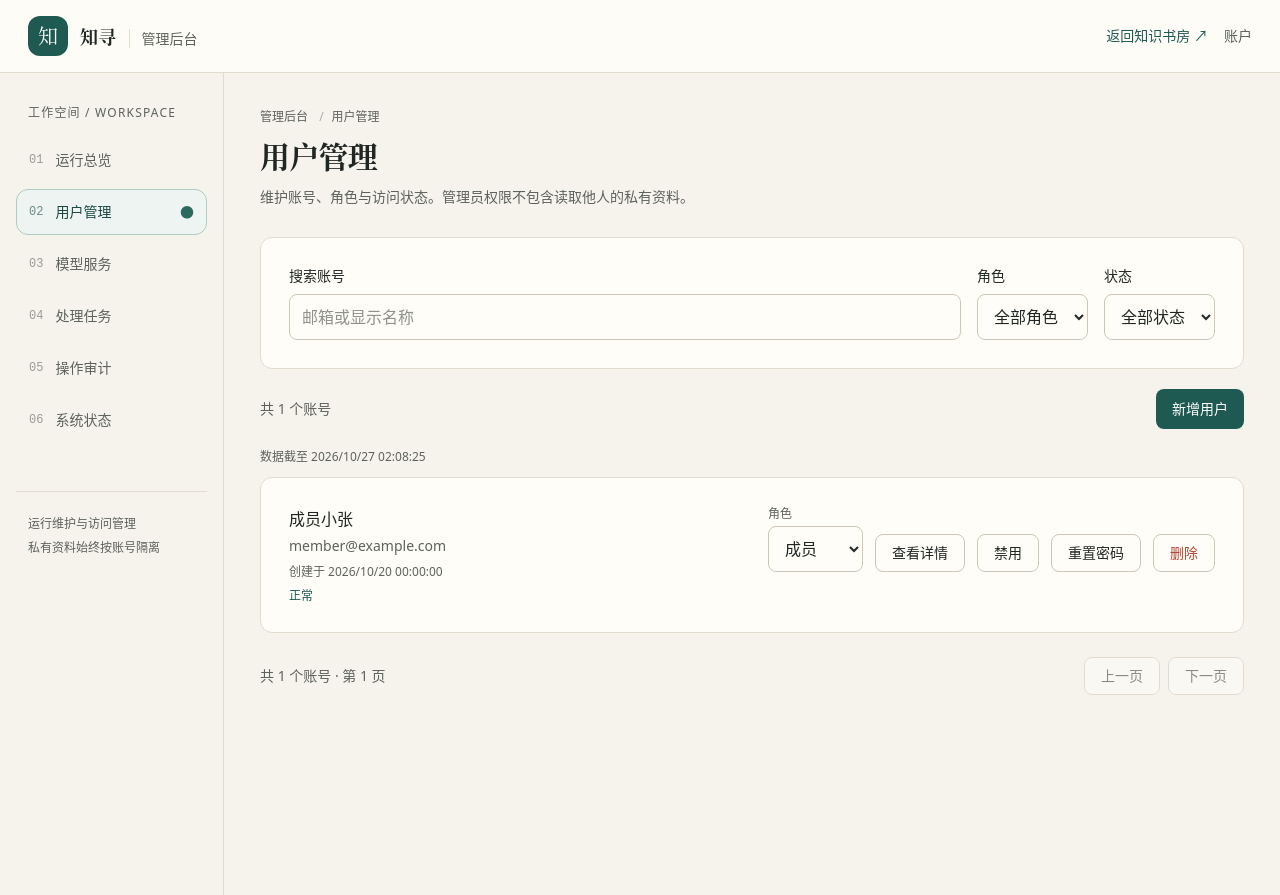
Test case: 额度修改确认与失败恢复
Click the button with test id "admin-user-detail-open" at [920, 553], box [875,534,965,572]
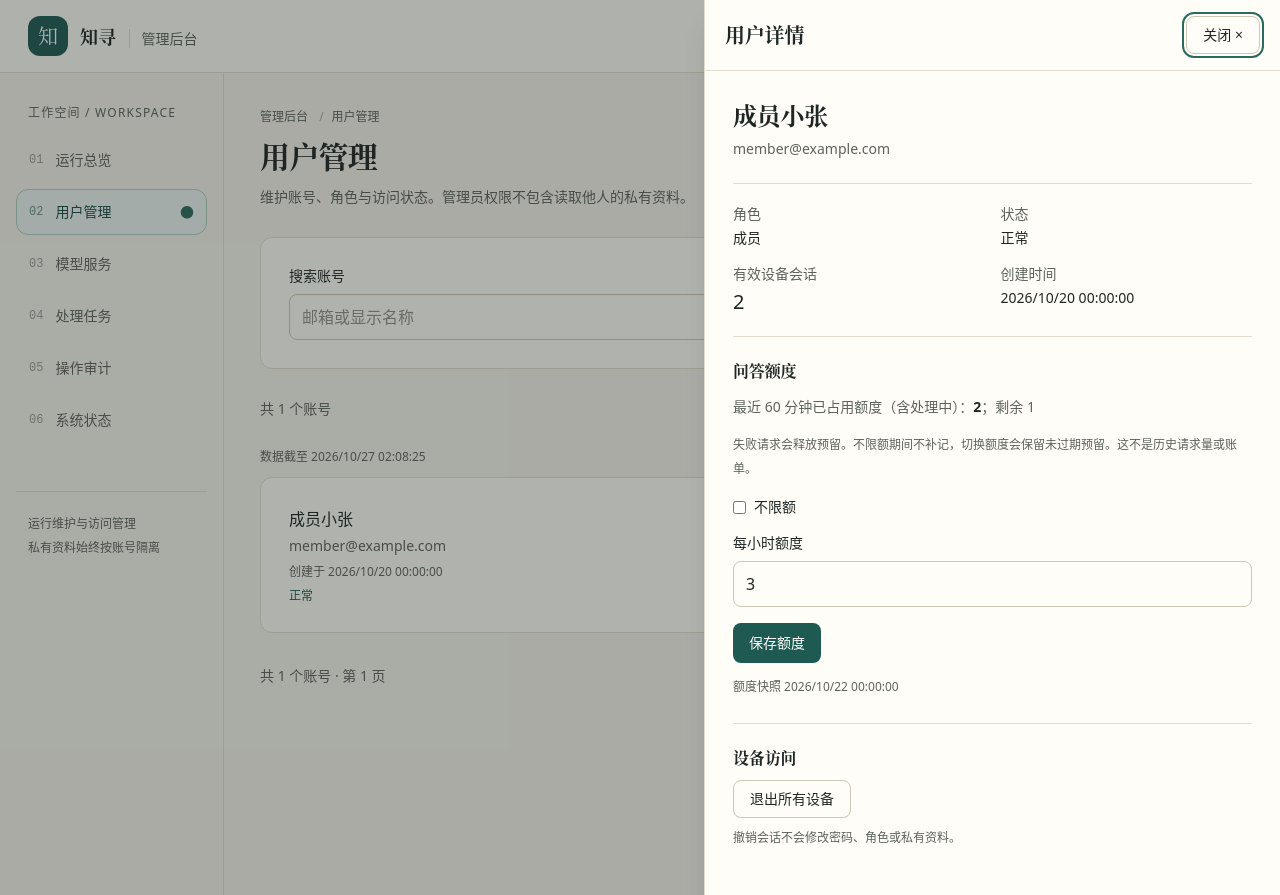
Replace the text in the number field with test id "admin-quota-input" with "0" at [992, 584], box [733,561,1252,607]
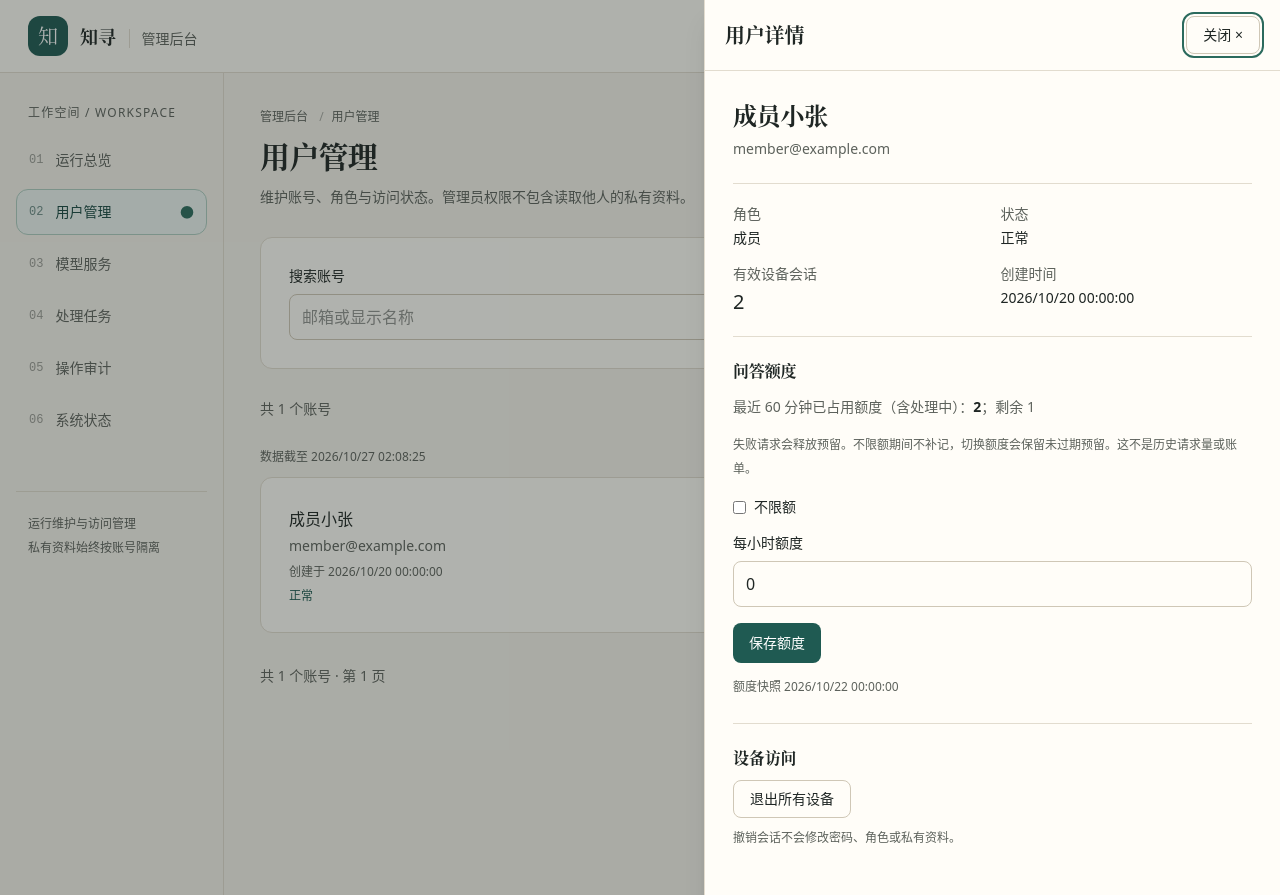
Click the button with test id "admin-quota-save" at [777, 643], box [733,623,821,663]
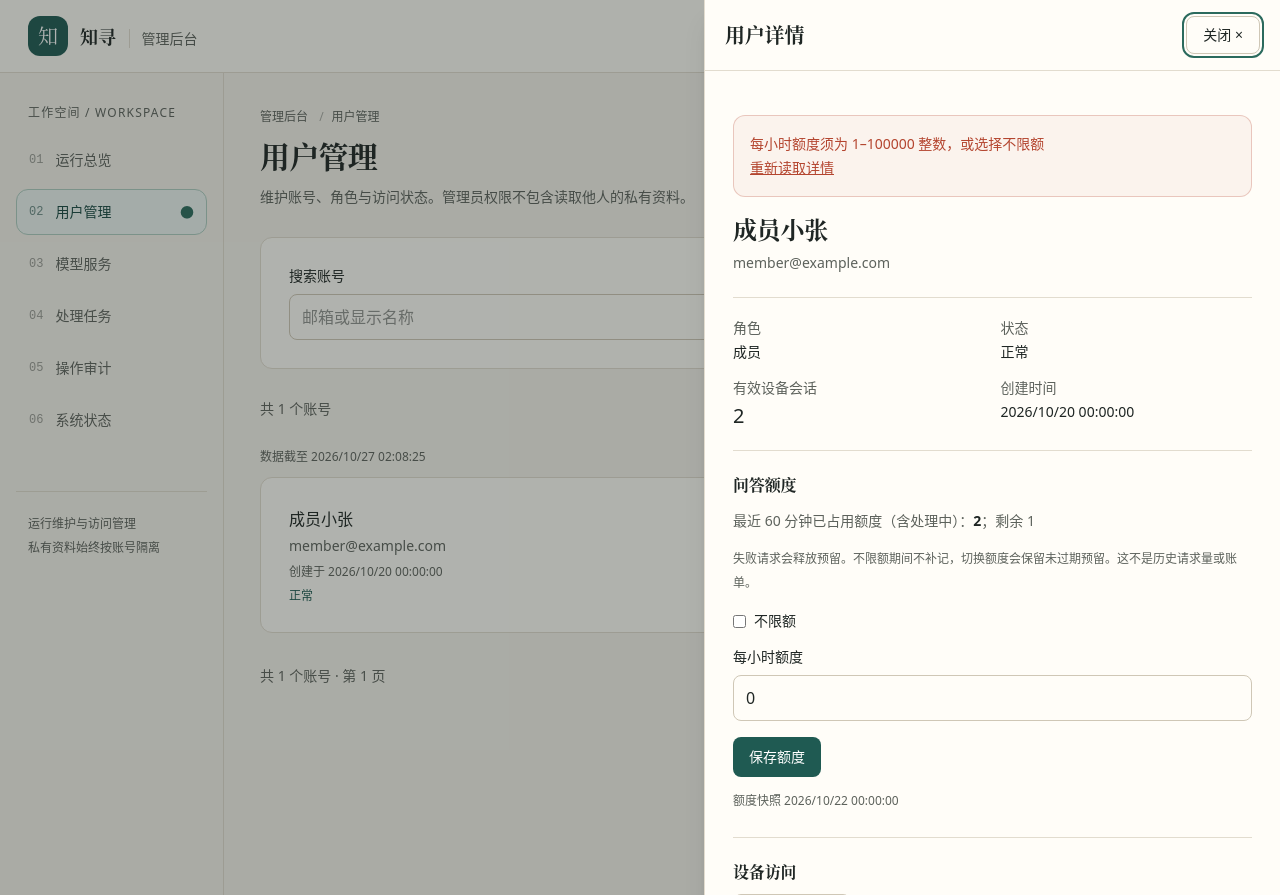
expect the text "100000" is shown: met, box [750,134,1044,153]
Replace the text in the number field with test id "admin-quota-input" with "1" at [992, 698], box [733,675,1252,721]
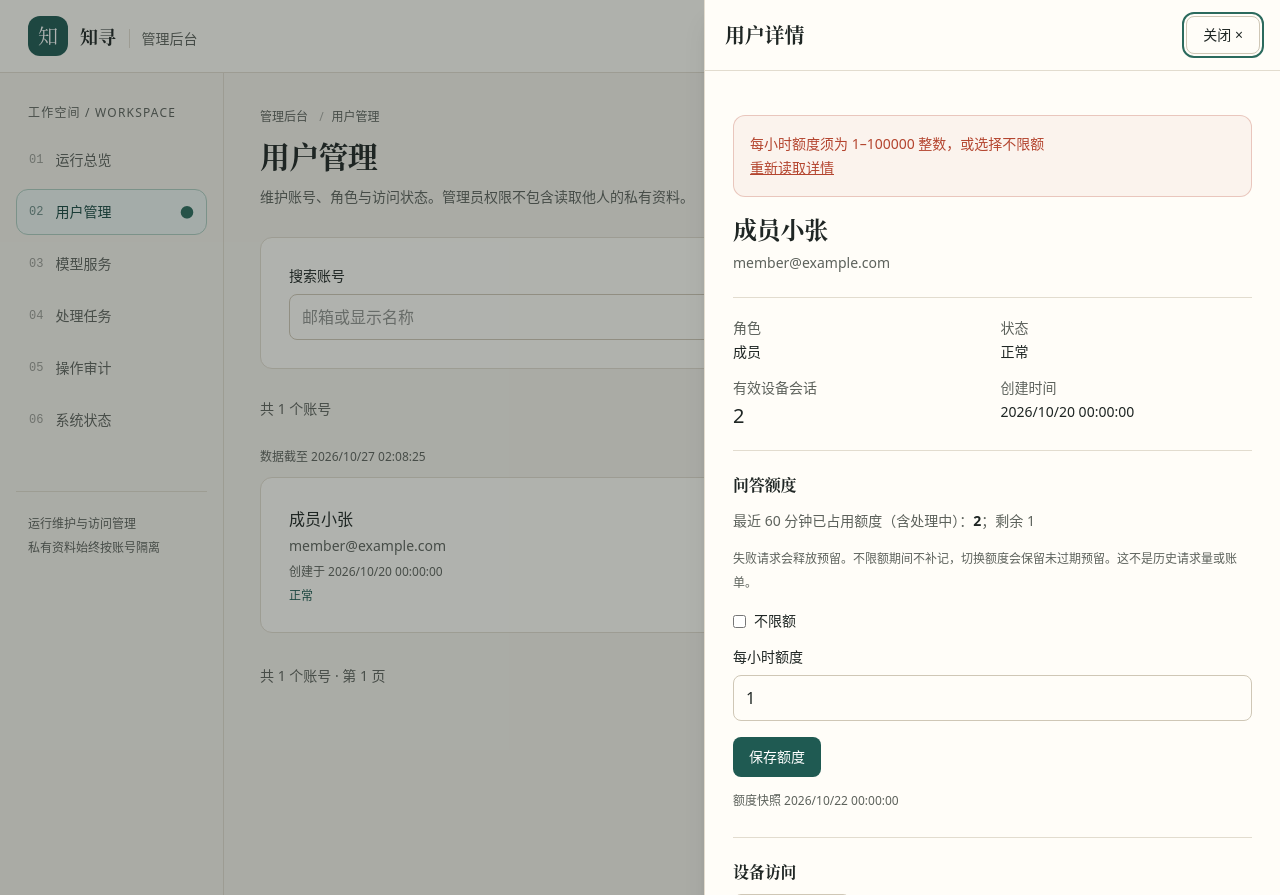
Click the button with test id "admin-quota-save" at [777, 757], box [733,737,821,777]
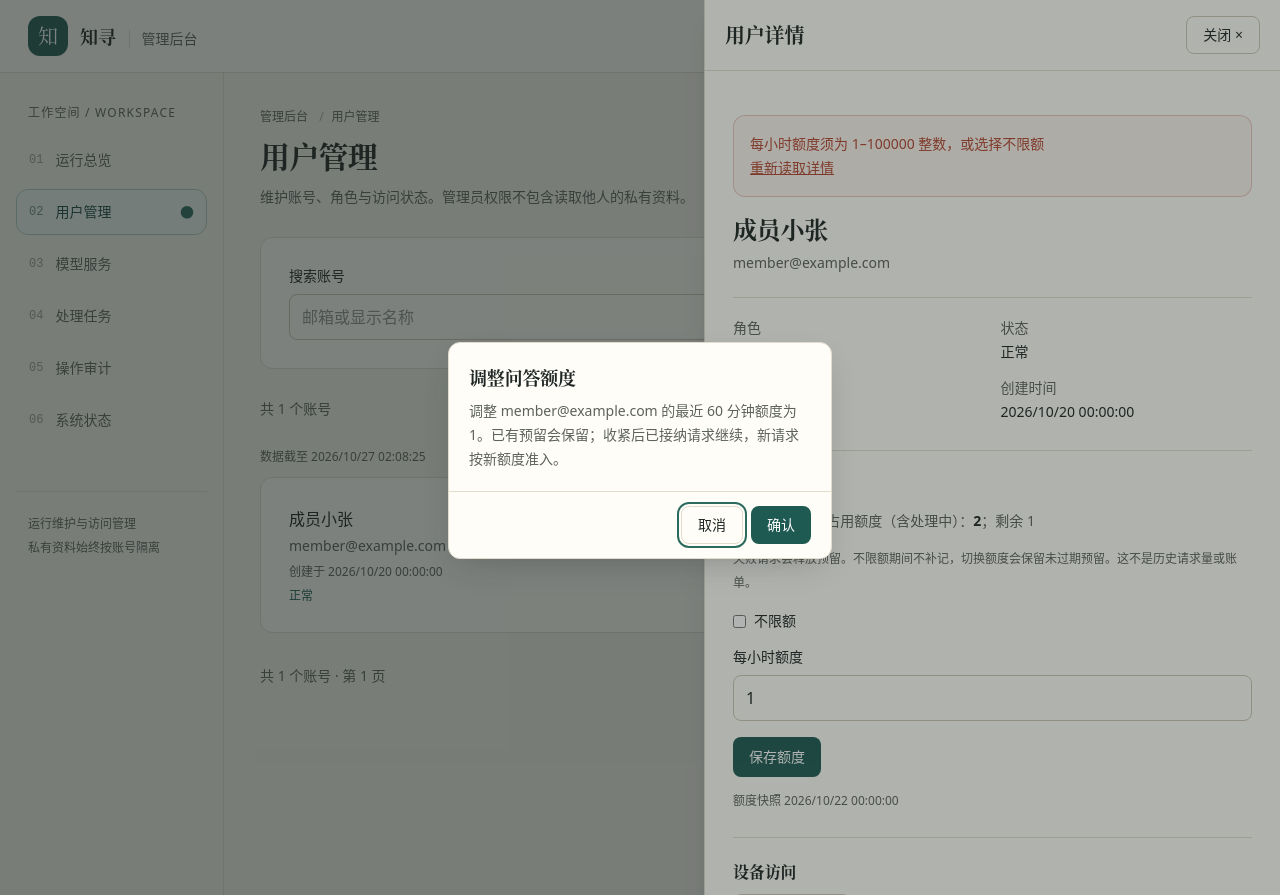
expect the text "已有预留" is shown: met, box [469,400,799,468]
Click the button with test id "confirm-dialog-confirm-btn" at [781, 524], box [751,506,811,544]
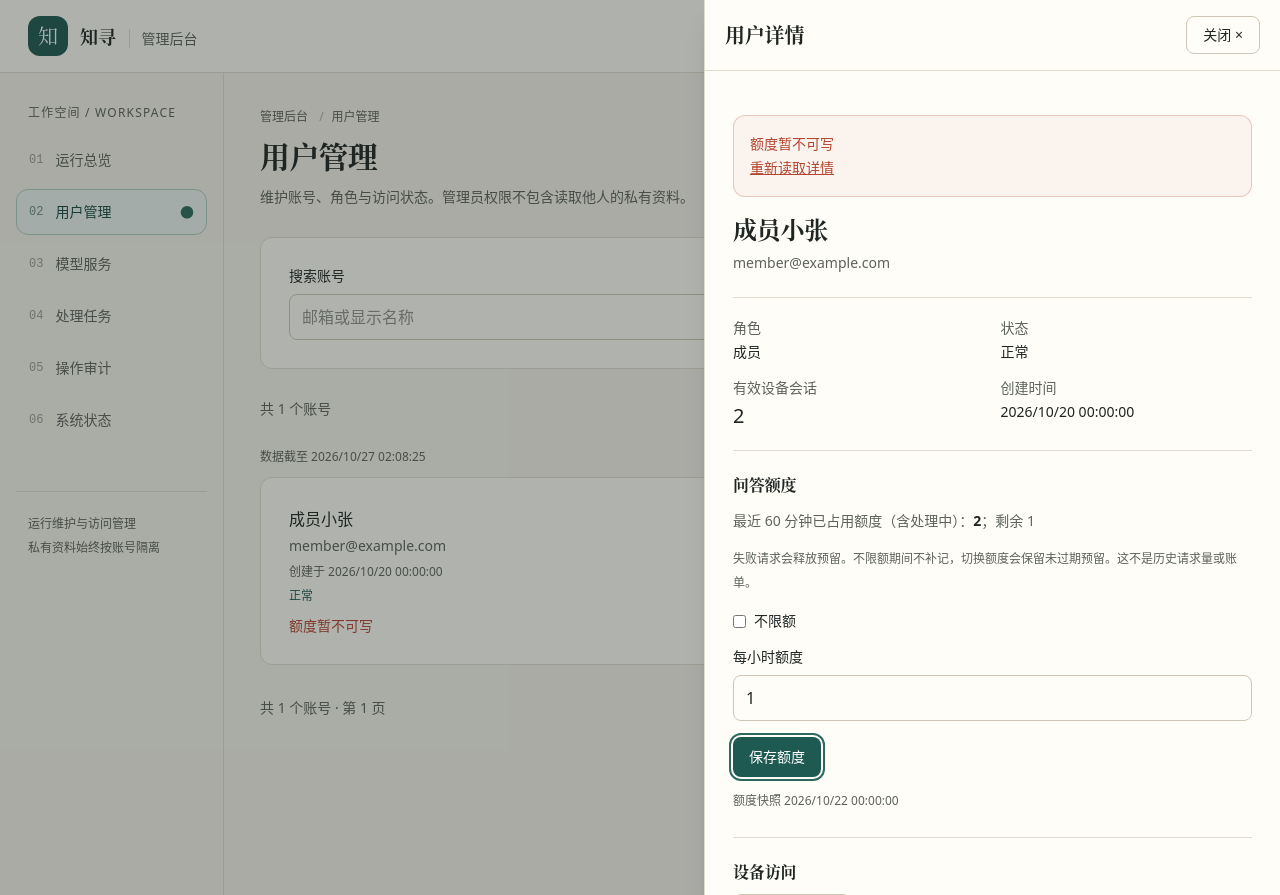
expect the text "额度暂不可写" is shown: met, box [289,616,373,635]
